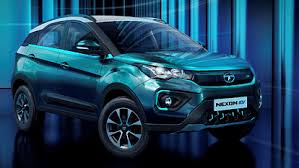Tata Nexon: (9, 13, 263, 157)
